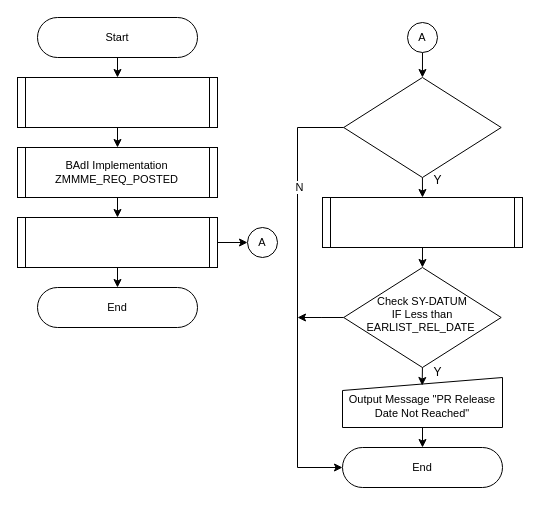
This 540x505 diagram has some shape labels left out. The box of each missing label's shape, as (x1, y1, x2, y2) in pixels:
BAdI Definition ME_REQ_POSTED: (16, 76, 218, 128)
Check SY-TCODE IF EQ 'ME55' OR 'ME54': (343, 76, 501, 178)
Class Implementation ZCL_IM_MME_REQ_POSTED: (16, 216, 218, 268)
Perform Subroutine ADD_WORKINGDAYS_BY_PLANT Returning EARLIST_REL_DATE: (322, 196, 522, 248)
